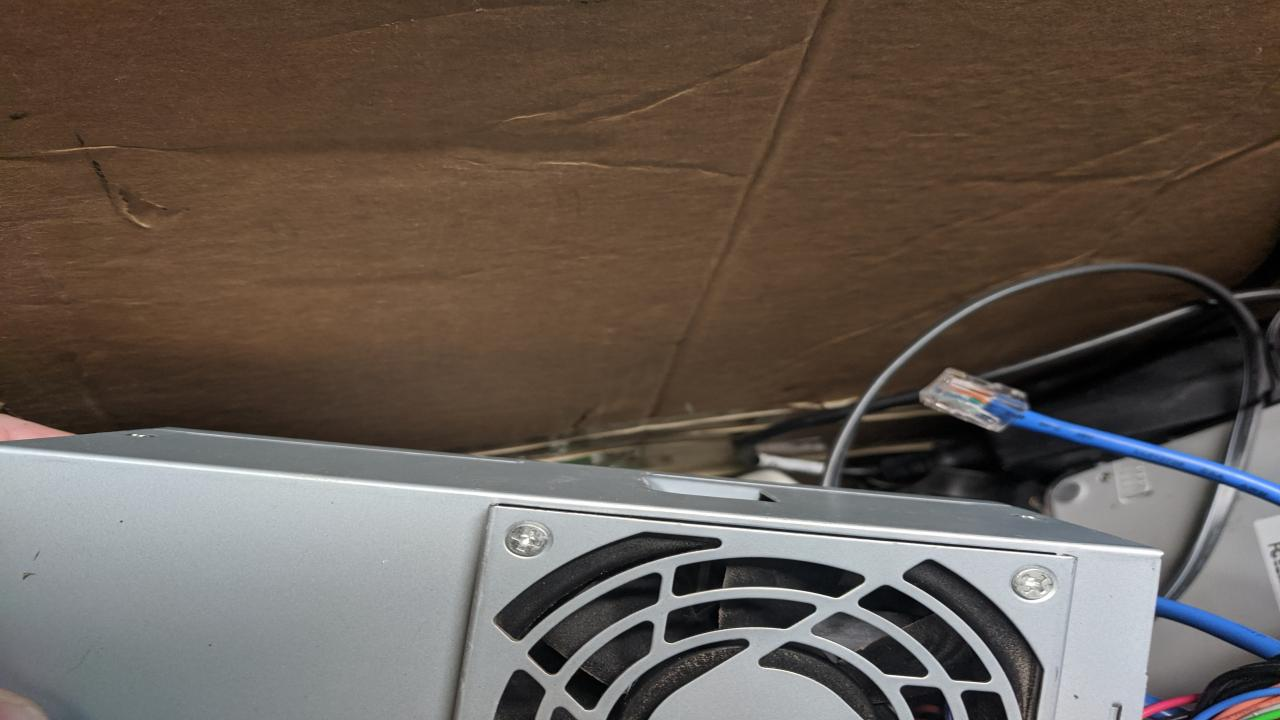CRS: (1011, 566, 1058, 602), (505, 522, 549, 556)
